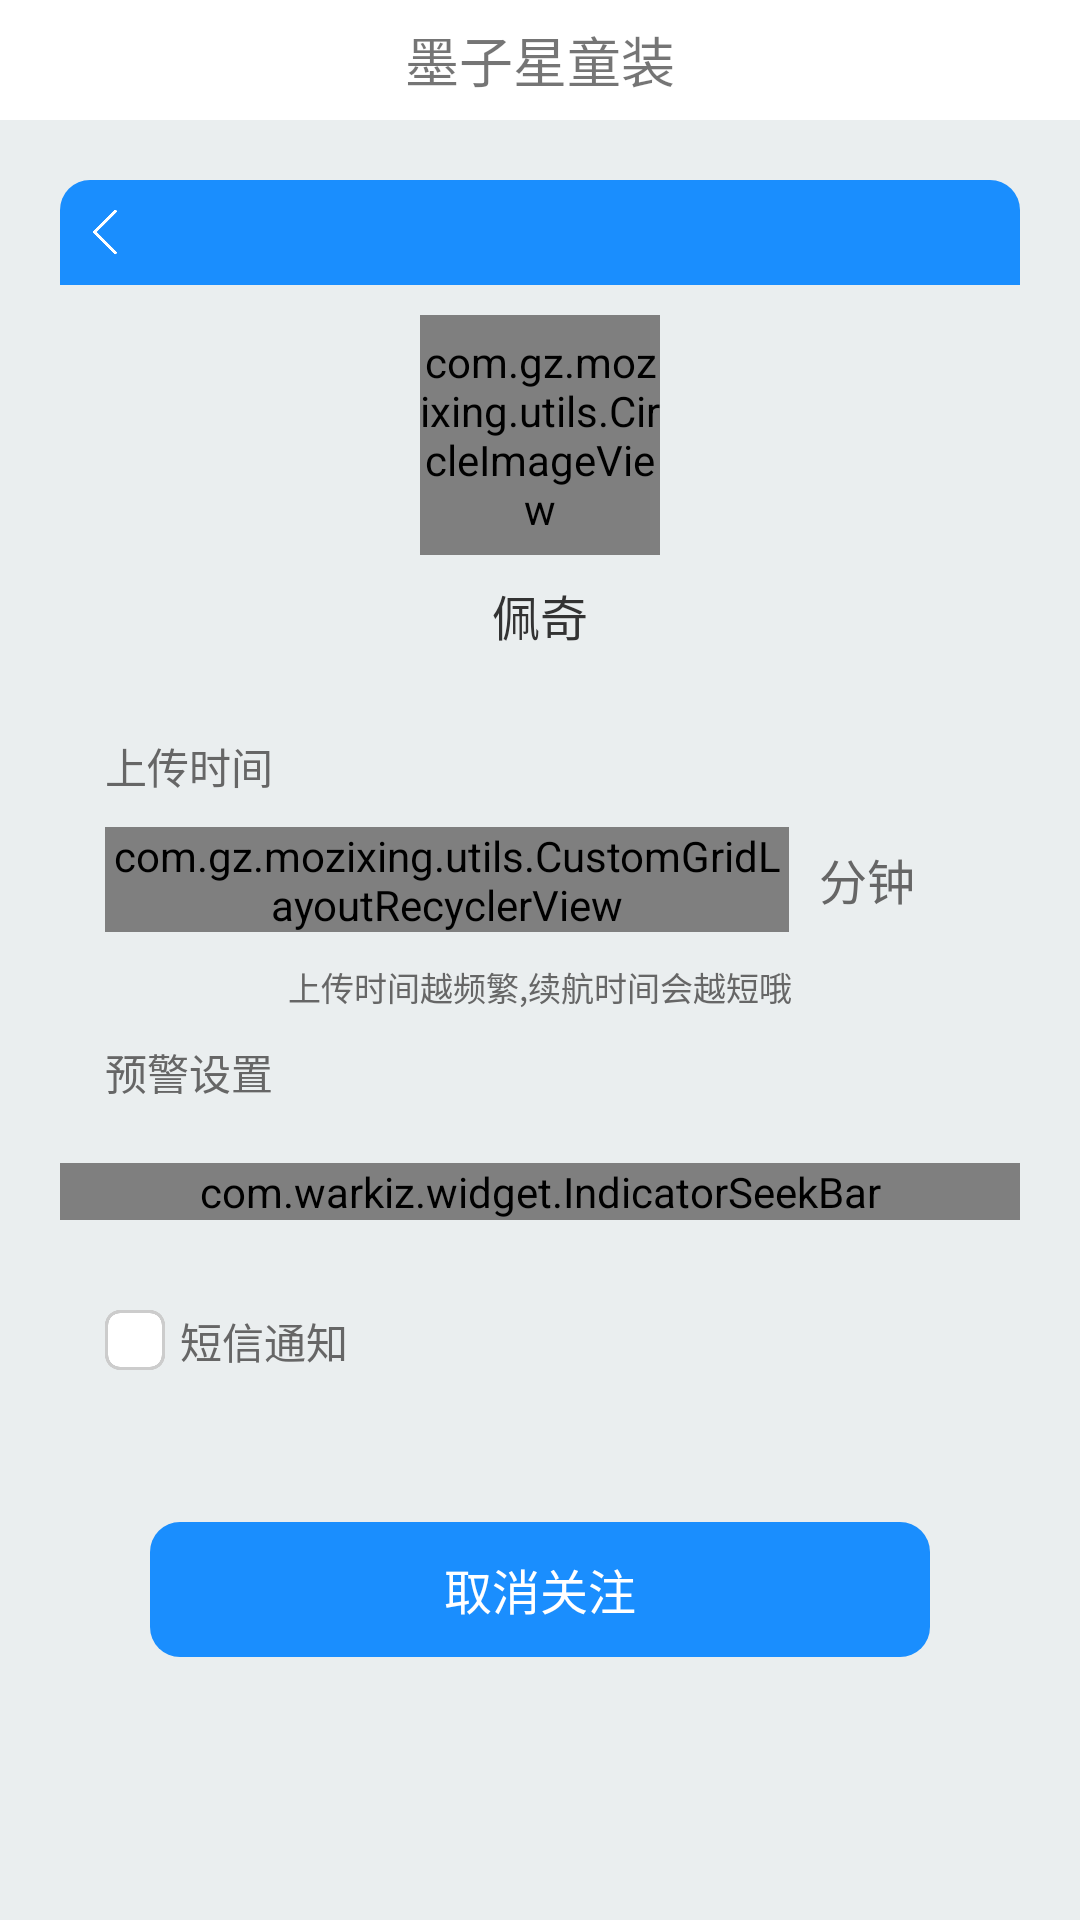

Point at icon controls on the screen. Image size 1080×1920, points as [x,y].
return: [105,232]
select un: [135,1340]
